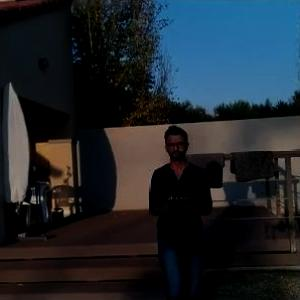follow: (144, 121, 218, 299)
